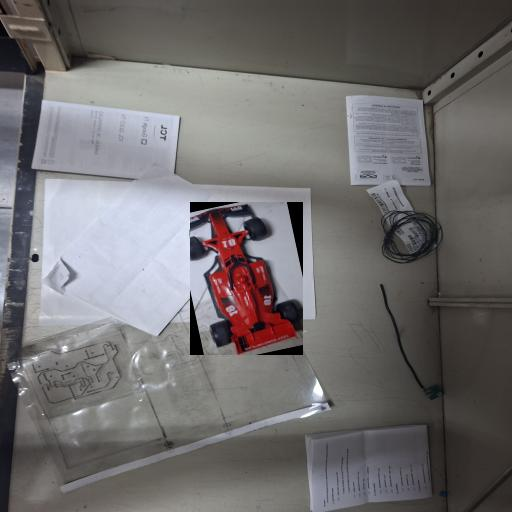carro: (190, 202, 303, 355)
